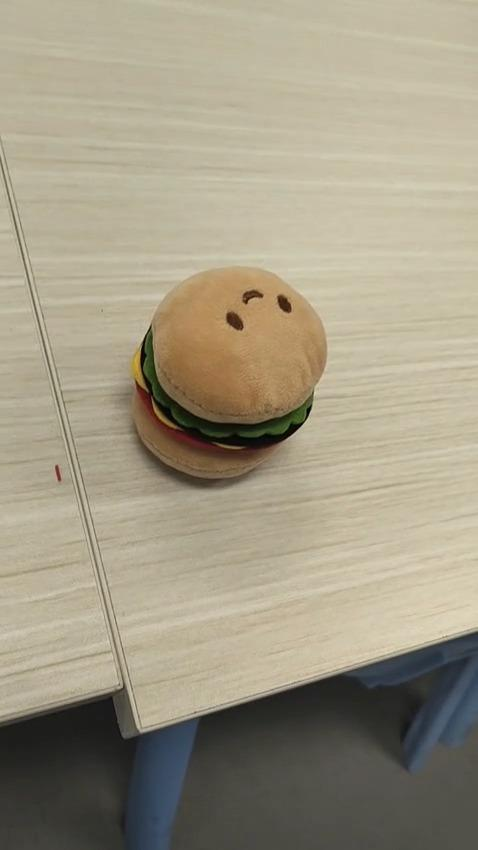hamburger: (129, 264, 328, 480)
